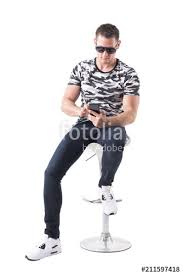sitting: (23, 21, 153, 268)
